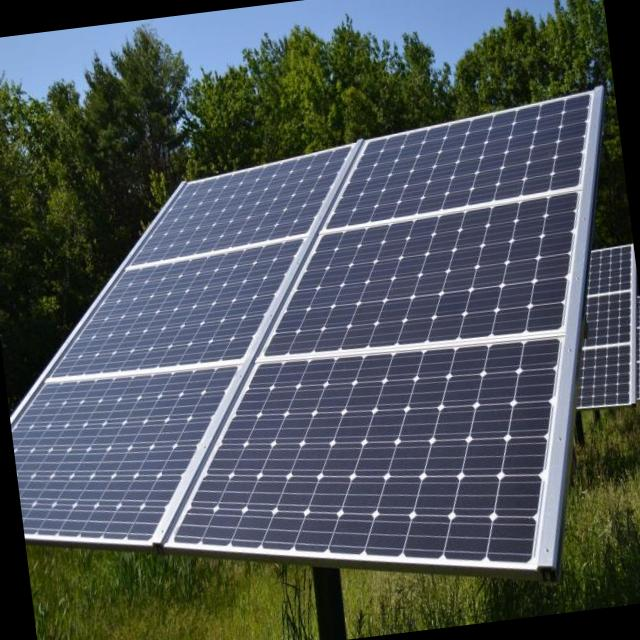no faulty: (12, 88, 584, 560)
